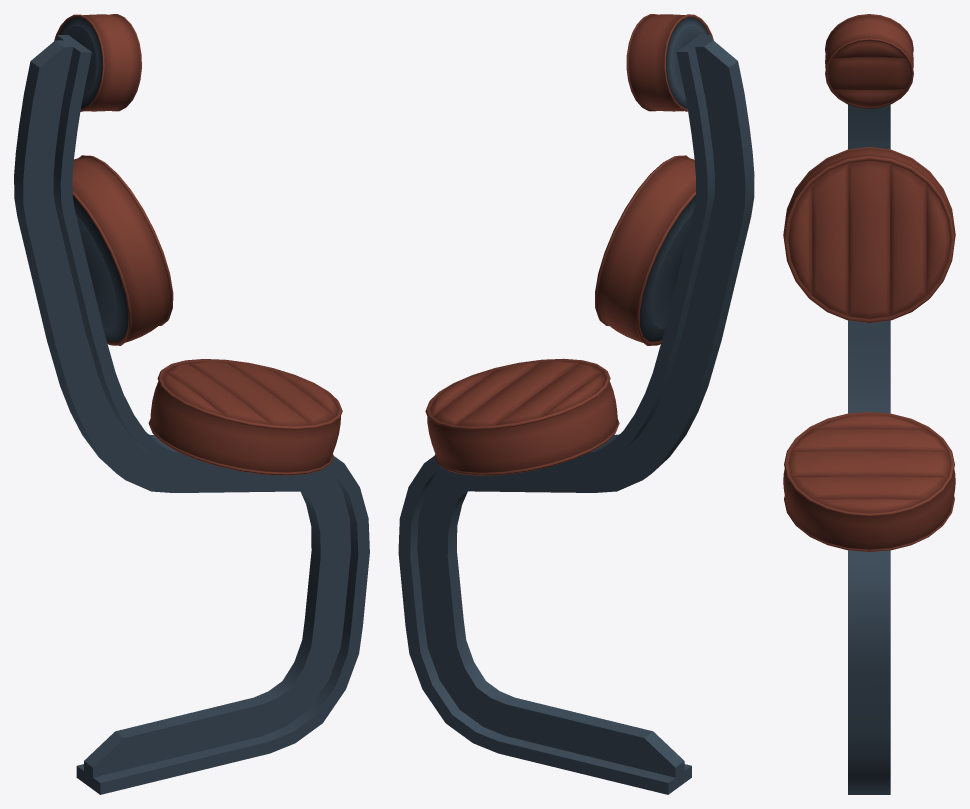
The model's file is Probe Seat.fbx.
3 views of the same model, side by side, from view 1: azimuth 30°, elevation 25°; view 2: azimuth 150°, elevation 25°; view 3: azimuth 270°, elevation 25° (orthographic). The views are drawn at different scales.
Parts seen in each view (by area): view 1: Probe Station Seat; view 2: Probe Station Seat; view 3: Probe Station Seat.
Boxes of the visible parts, x1,y1,x2,y2 form: Probe Station Seat: [14, 14, 369, 794]; Probe Station Seat: [398, 14, 754, 794]; Probe Station Seat: [783, 14, 955, 794].
Bounding box in the file's own units: 119 × 257 × 57.56.
